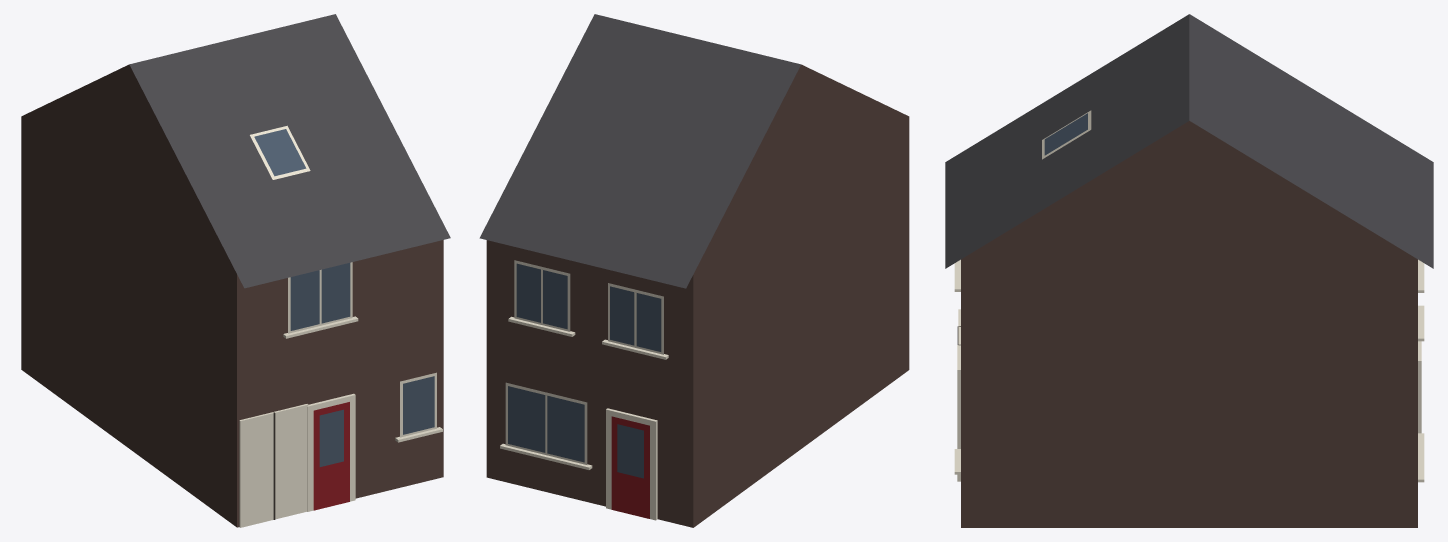
Rendered from nw-rowhouse-garage-door__cream-red-slate__2__gable__long__solid.glb.
3 views of the same model, side by side, from view 1: azimuth 30°, elevation 25°; view 2: azimuth 150°, elevation 25°; view 3: azimuth 270°, elevation 25° (orthographic). The views are drawn at different scales.
Visible parts, largest first — view 1: nw-rowhouse-garage-door__cream-red-slate__2__gable__long__so; view 2: nw-rowhouse-garage-door__cream-red-slate__2__gable__long__so; view 3: nw-rowhouse-garage-door__cream-red-slate__2__gable__long__so.
Boxes of the visible parts, left/top/right/bottom form: nw-rowhouse-garage-door__cream-red-slate__2__gable__long__so: left=21, top=14, right=450, bottom=527; nw-rowhouse-garage-door__cream-red-slate__2__gable__long__so: left=479, top=14, right=909, bottom=527; nw-rowhouse-garage-door__cream-red-slate__2__gable__long__so: left=945, top=14, right=1433, bottom=527.
Bounding box in the file's own units: 4.86 × 8.64 × 9.39.
